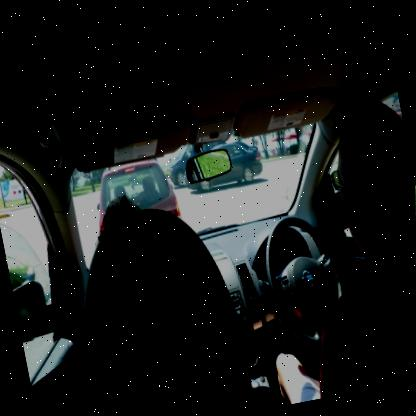Car: (0, 0, 415, 415), (90, 156, 180, 232), (180, 138, 262, 193), (161, 138, 228, 188)
